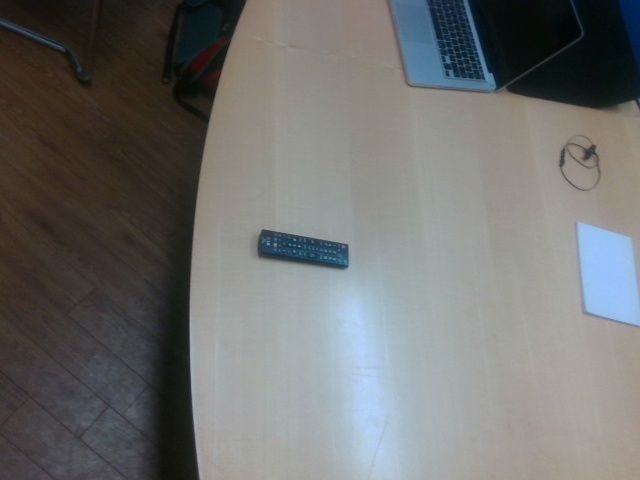remote: (259, 227, 353, 265)
